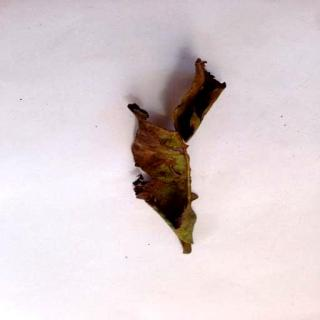Algal Leaf: (129, 57, 230, 255)
